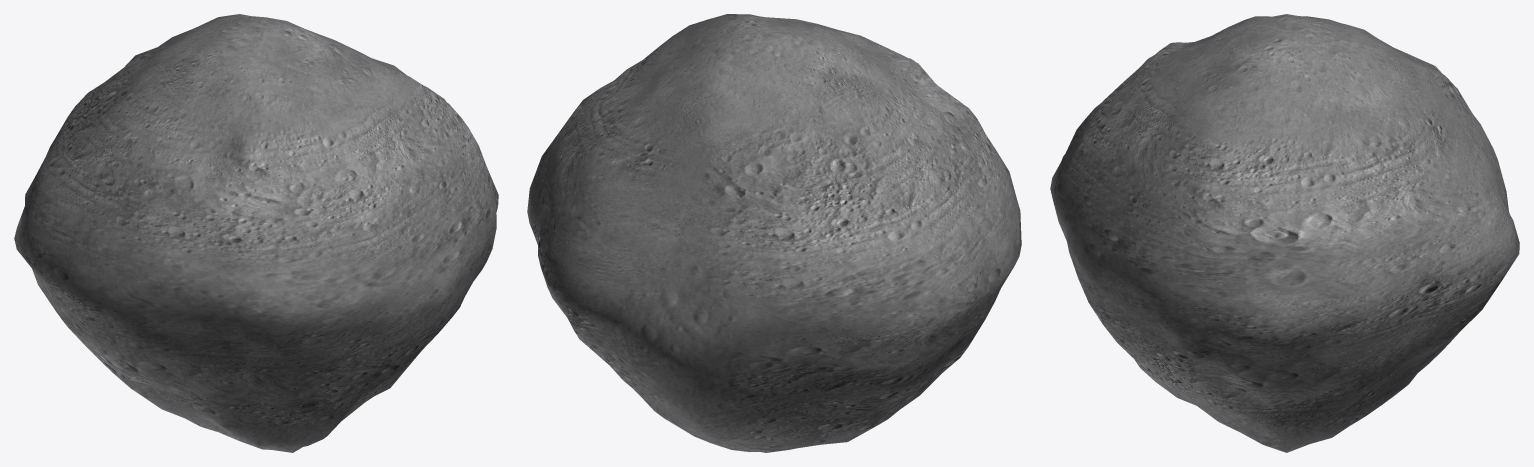
Rendered from bennu.glb.
3 views of the same model, side by side, from view 1: azimuth 30°, elevation 25°; view 2: azimuth 150°, elevation 25°; view 3: azimuth 270°, elevation 25° (orthographic). The views are drawn at different scales.
Visible parts, largest first — view 1: bennu; view 2: bennu; view 3: bennu.
Boxes of the visible parts, x1=… form: bennu: x1=14, y1=14, x2=498, y2=452; bennu: x1=527, y1=14, x2=1021, y2=452; bennu: x1=1050, y1=14, x2=1519, y2=452.
Bounding box in the file's own units: 565 × 508 × 535.
Materials: 1 (1 with a texture image).
